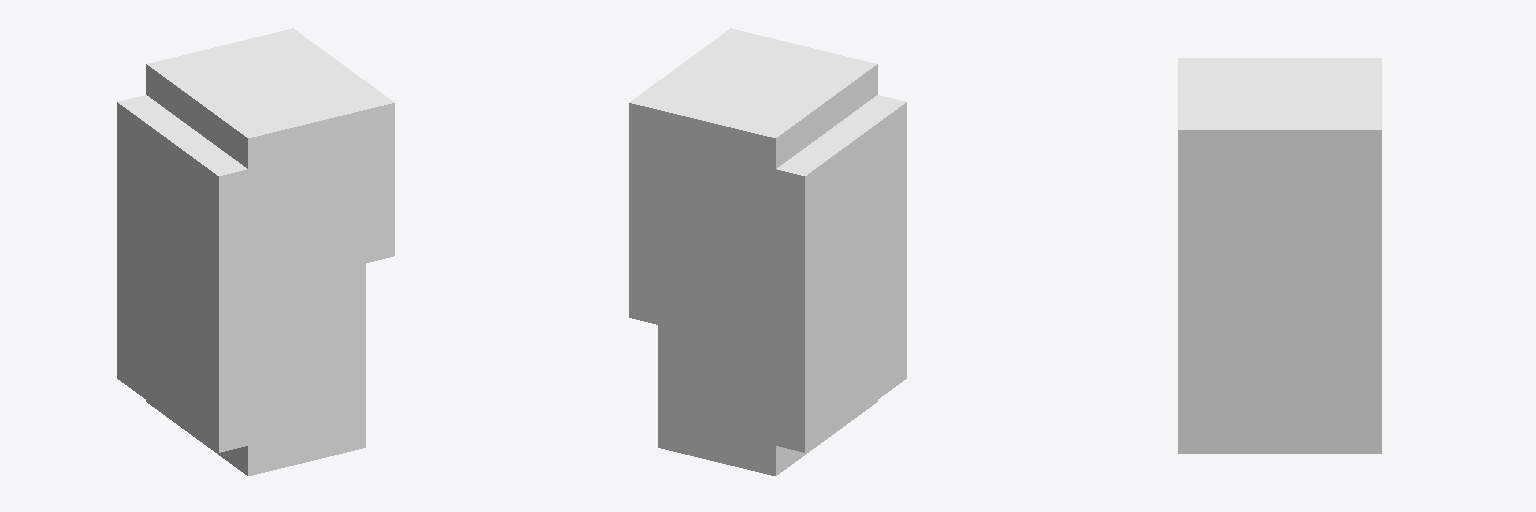
File: DragonThingArmsRightShoulder.obj
The picture shows the model from 3 angles: view 1: azimuth 30°, elevation 25°; view 2: azimuth 150°, elevation 25°; view 3: azimuth 270°, elevation 25°; orthographic projection.
Parts seen in each view (by area): view 1: DragonThingArmsRightShoulder; view 2: DragonThingArmsRightShoulder; view 3: DragonThingArmsRightShoulder.
Boxes of the visible parts, box(x1,y1,x2,y2) form: DragonThingArmsRightShoulder: box(117, 28, 394, 475); DragonThingArmsRightShoulder: box(629, 28, 906, 475); DragonThingArmsRightShoulder: box(1178, 58, 1381, 453).
Bounding box in the file's own units: 6 × 11 × 6.